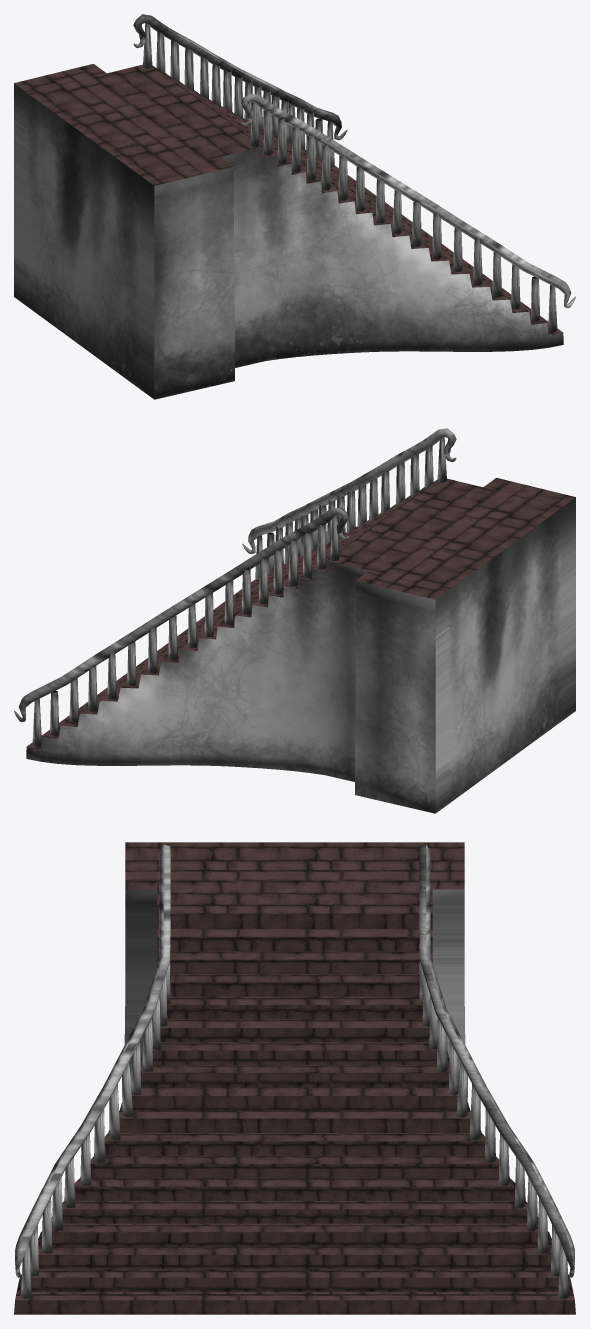
Rendered from MOD_L1_Room3_Stairs.fbx.
3 renders of one model, top to bottom at view 1: azimuth 30°, elevation 25°; view 2: azimuth 150°, elevation 25°; view 3: azimuth 270°, elevation 25°, orthographic. The views are drawn at different scales.
Visible parts, largest first — view 1: Cube.004; view 2: Cube.004; view 3: Cube.004.
Boxes of the visible parts, bbox=[...] form: Cube.004: bbox=[14, 14, 575, 399]; Cube.004: bbox=[14, 428, 575, 813]; Cube.004: bbox=[14, 842, 575, 1314].
Size of the model in its own units: 106 by 71.93 by 114.
